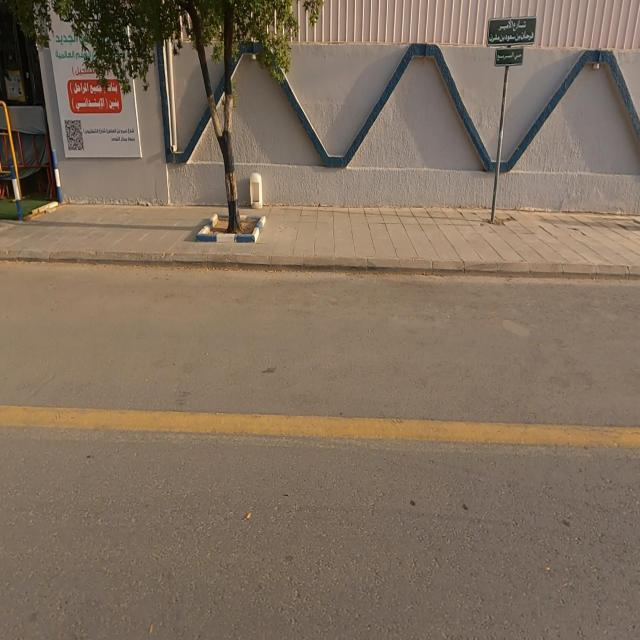debris: (228, 135, 280, 237)
